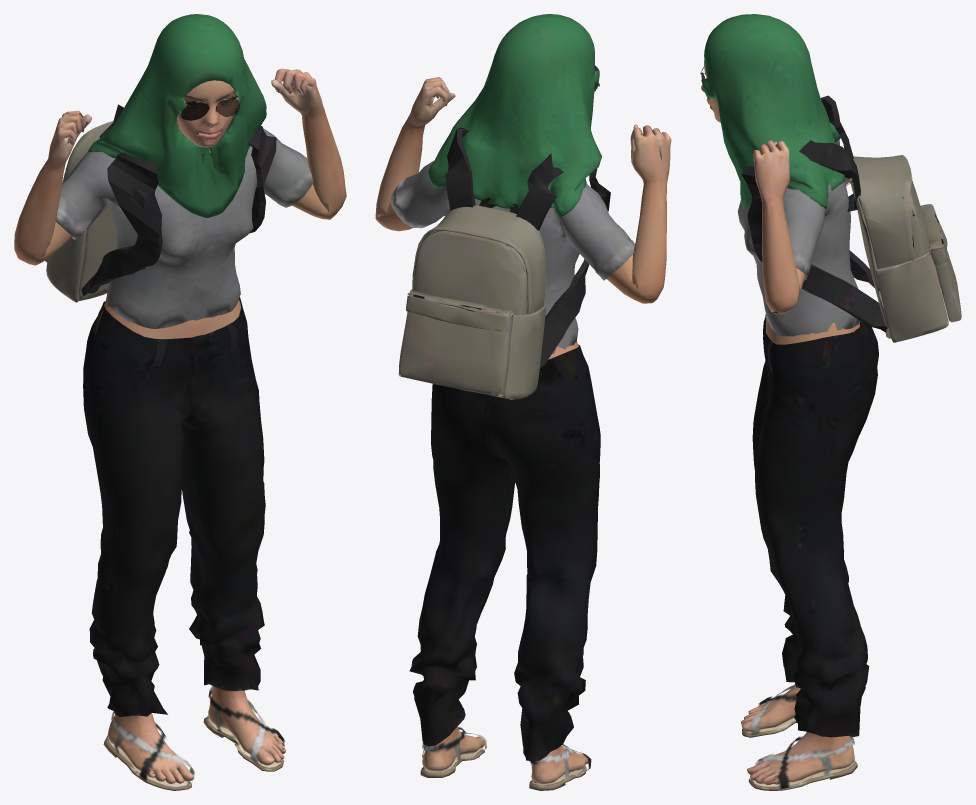
The picture shows the model from 3 angles, left to right: view 1: azimuth 30°, elevation 25°; view 2: azimuth 150°, elevation 25°; view 3: azimuth 270°, elevation 25°; orthographic projection. The views are drawn at different scales.
Visible parts, largest first — view 1: hijabv3_w004; view 2: hijabv3_w004; view 3: hijabv3_w004.
Boxes of the visible parts, x1=… form: hijabv3_w004: x1=14, y1=14, x2=346, y2=790; hijabv3_w004: x1=375, y1=14, x2=671, y2=790; hijabv3_w004: x1=700, y1=14, x2=961, y2=790.
Size of the model in its own units: 0.6842 by 1.62 by 0.5248.
1 material, 1 textured.
